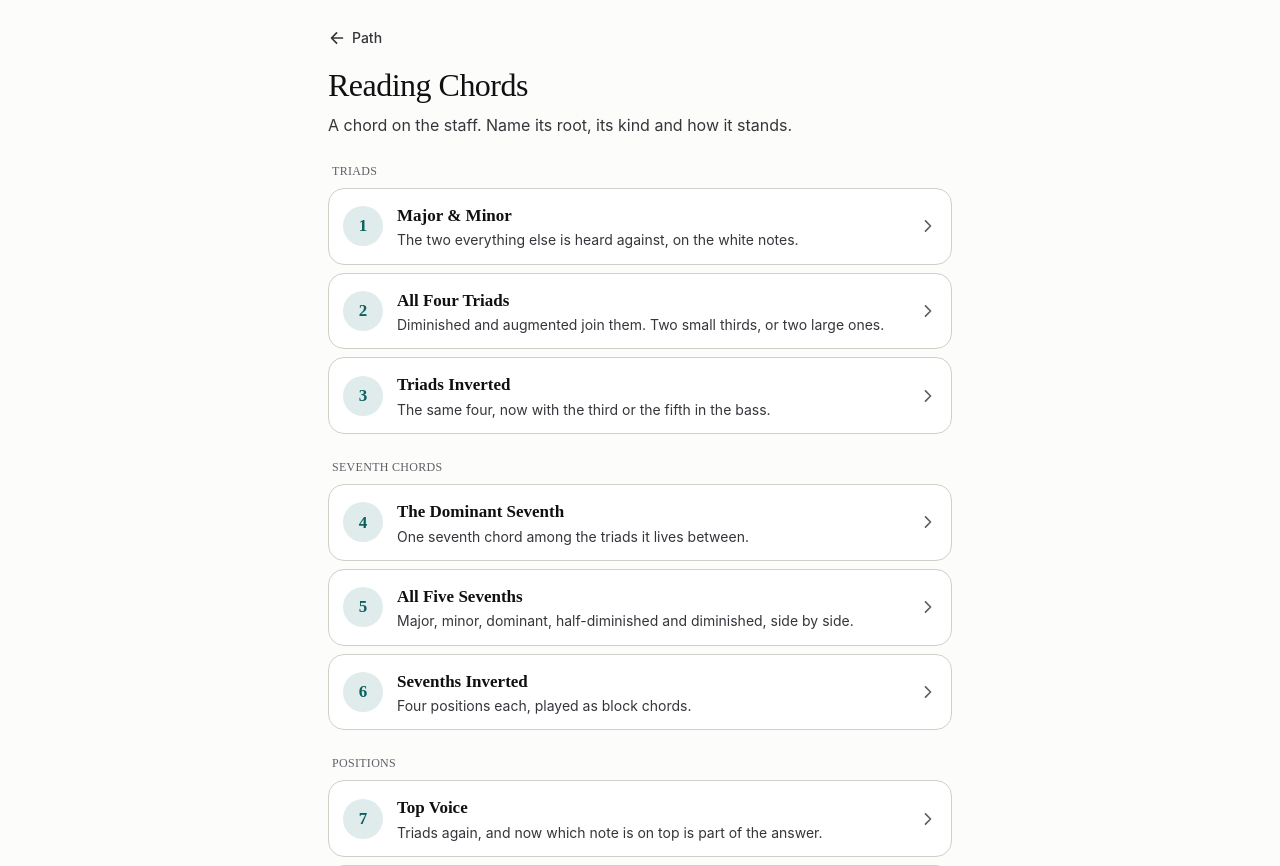
Test: reading chords › opens on the levels, in runs, and starts a round in the same tap
Expected: the text "Major & Minor" is shown, [397,206,512,225]
Expected: the heading "Triads" is shown, [332,164,377,178]
Click the button "Major & Minor".
click(363, 226)  # box [328,188,952,265]
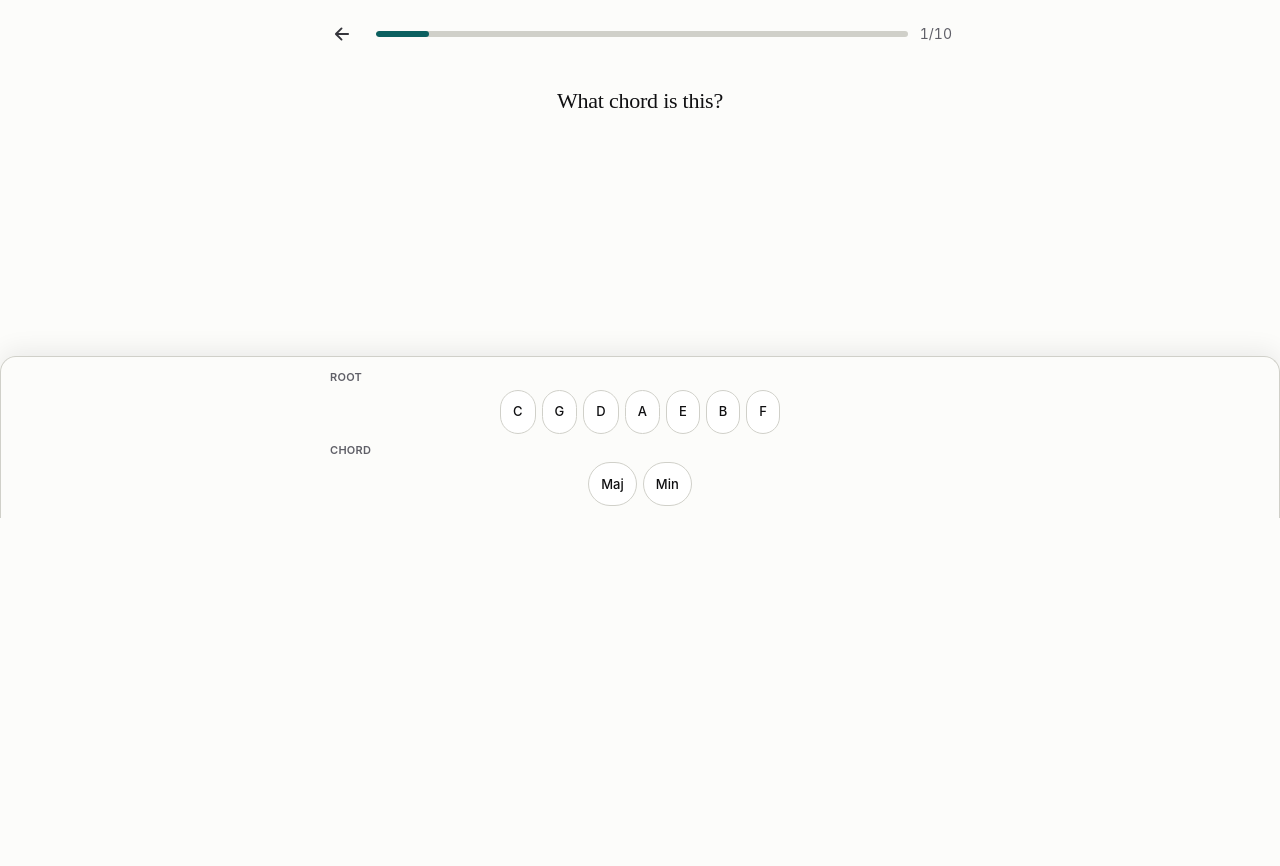
Now the heading "What chord is this?" is shown, box [557,88,723,114]
Now the progress indicator is shown, box [376,31,908,37]
